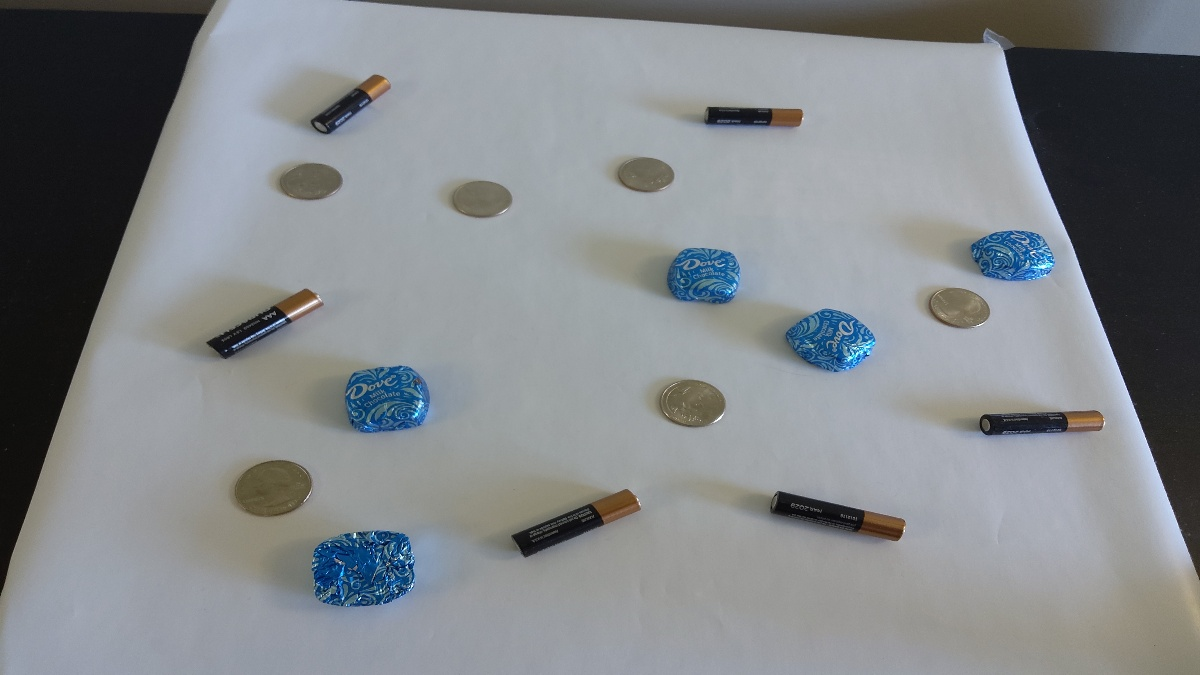battery: (498, 479, 652, 560), (753, 481, 922, 551), (207, 278, 326, 359), (304, 66, 396, 135), (975, 404, 1116, 448), (688, 95, 833, 132)
chocolate_blue: (317, 528, 422, 614), (340, 362, 438, 439), (779, 302, 878, 375), (962, 220, 1056, 287), (658, 239, 744, 312)
coin_quarter: (230, 449, 320, 526), (654, 374, 738, 438), (920, 278, 1002, 334), (272, 154, 346, 208), (608, 154, 684, 199), (448, 174, 522, 220)
